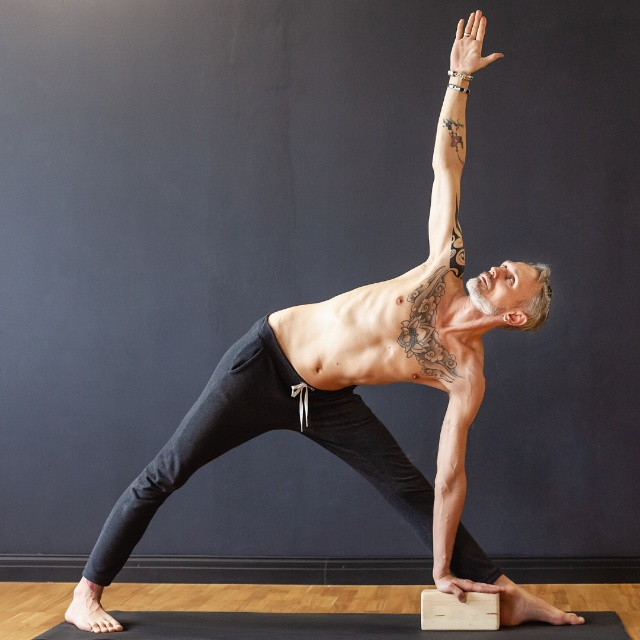Triangle_Pose: (52, 9, 593, 634)
